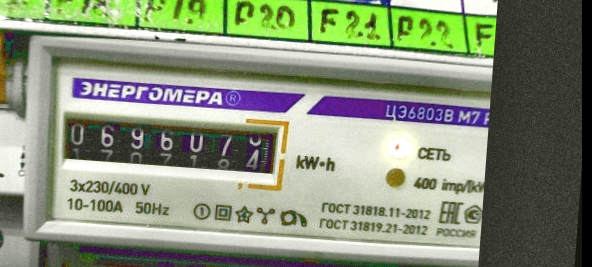0: (67, 120, 86, 145), (187, 126, 204, 153)
4: (243, 146, 261, 171)
6: (97, 122, 116, 147), (157, 125, 176, 150)
7: (217, 131, 234, 158)
9: (127, 124, 145, 149)
screen: (46, 96, 293, 188)
